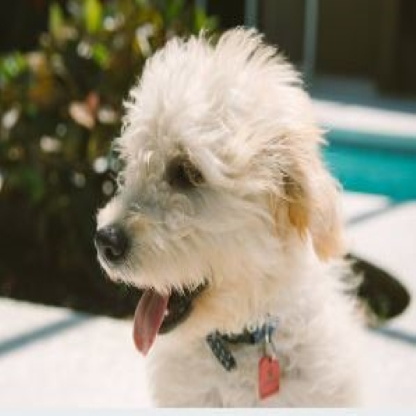maltese: (90, 24, 389, 408)
